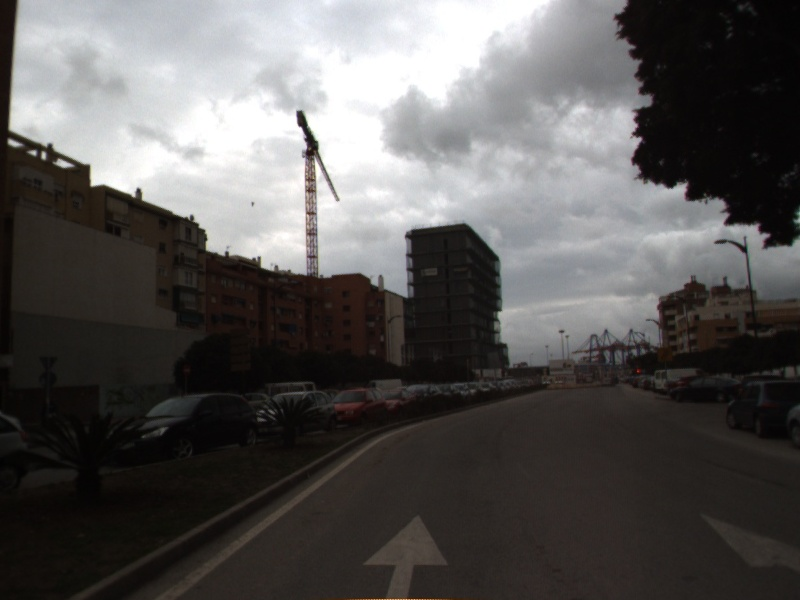STRAIGHT: (358, 511, 453, 600)
